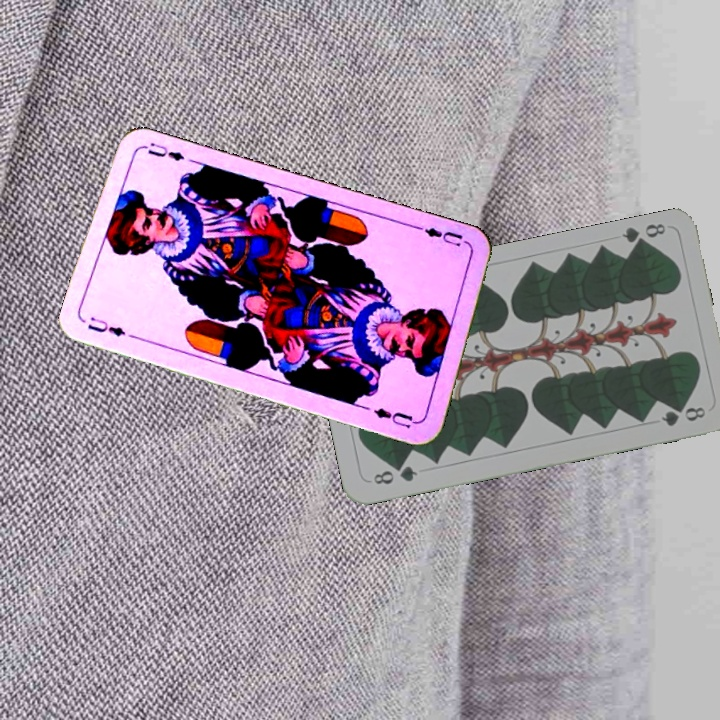EU: (414, 222, 466, 249), (83, 312, 129, 340)
G8: (618, 219, 668, 252), (369, 461, 420, 487)
